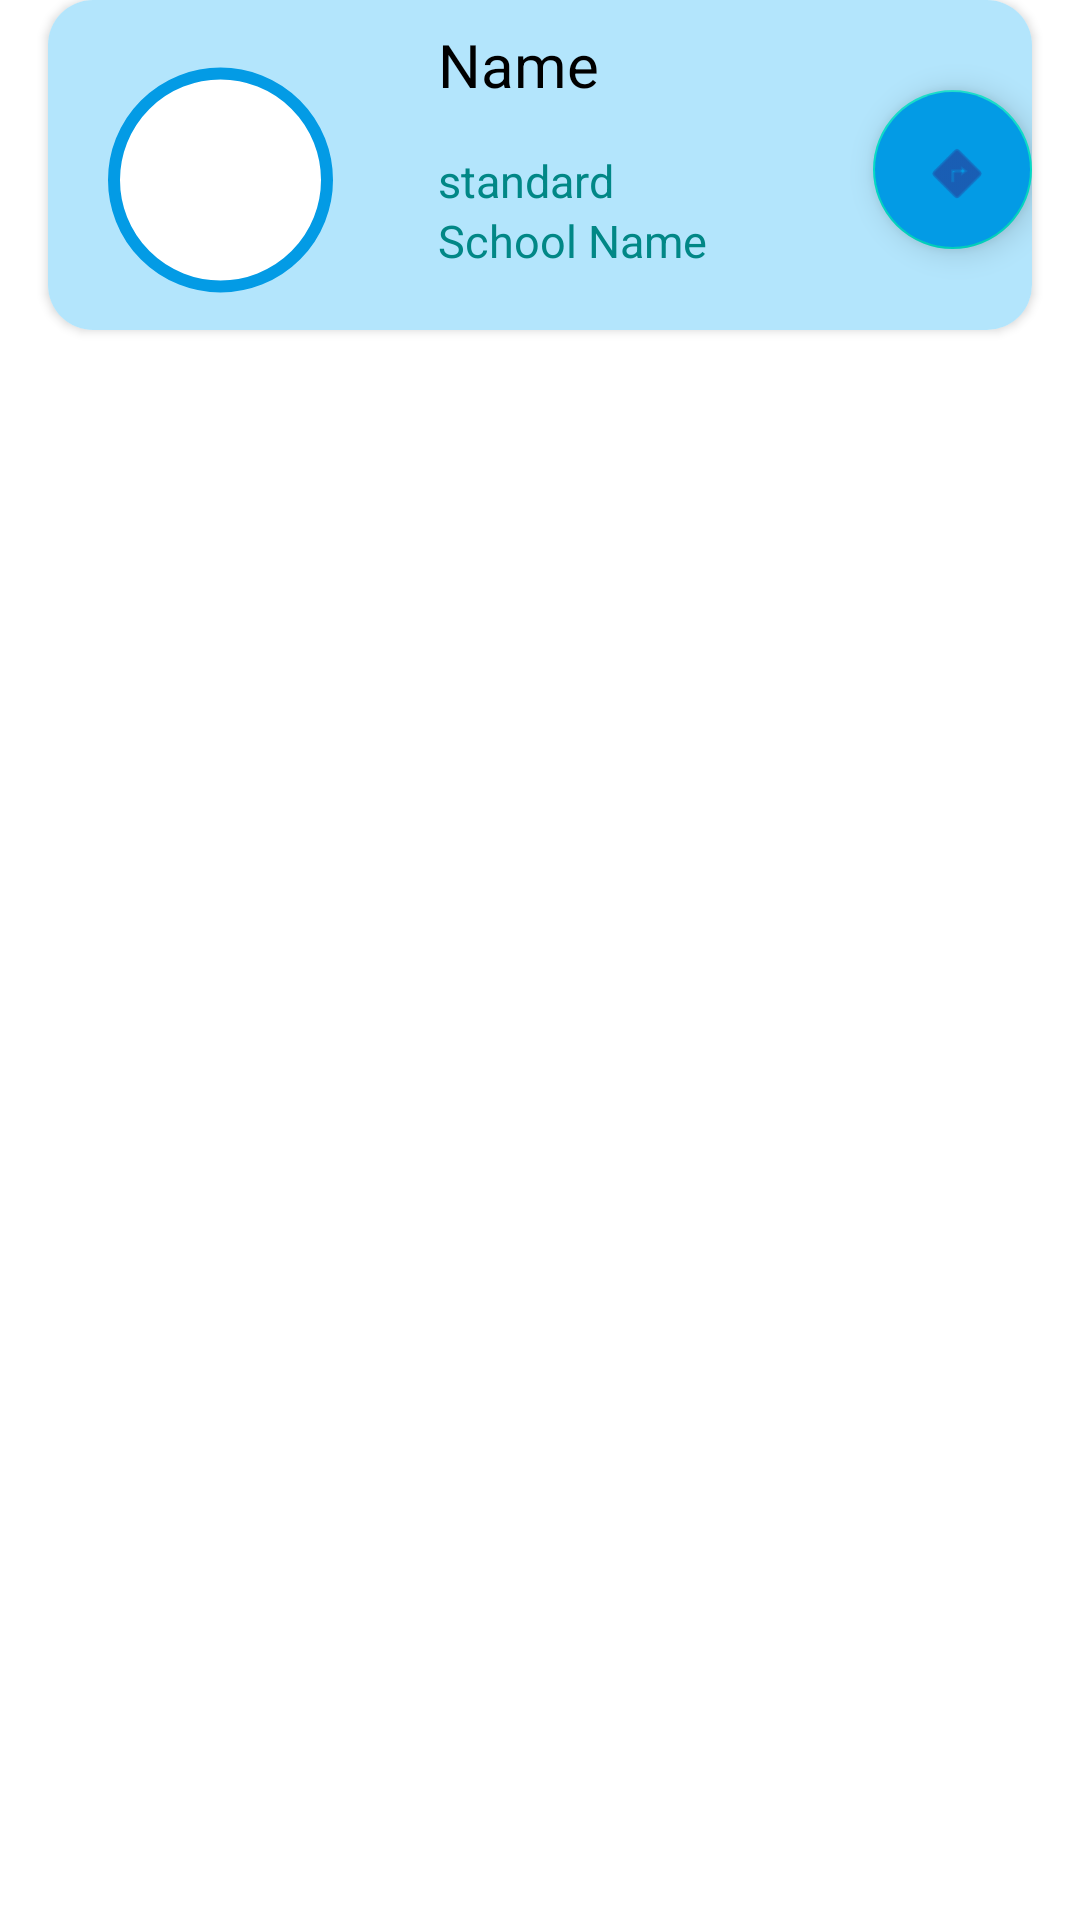

Locate icon controls on the screen. Image size 1080×1920, boxes as (x1, y1, x2, y2).
directions: (873, 90, 1032, 249)
